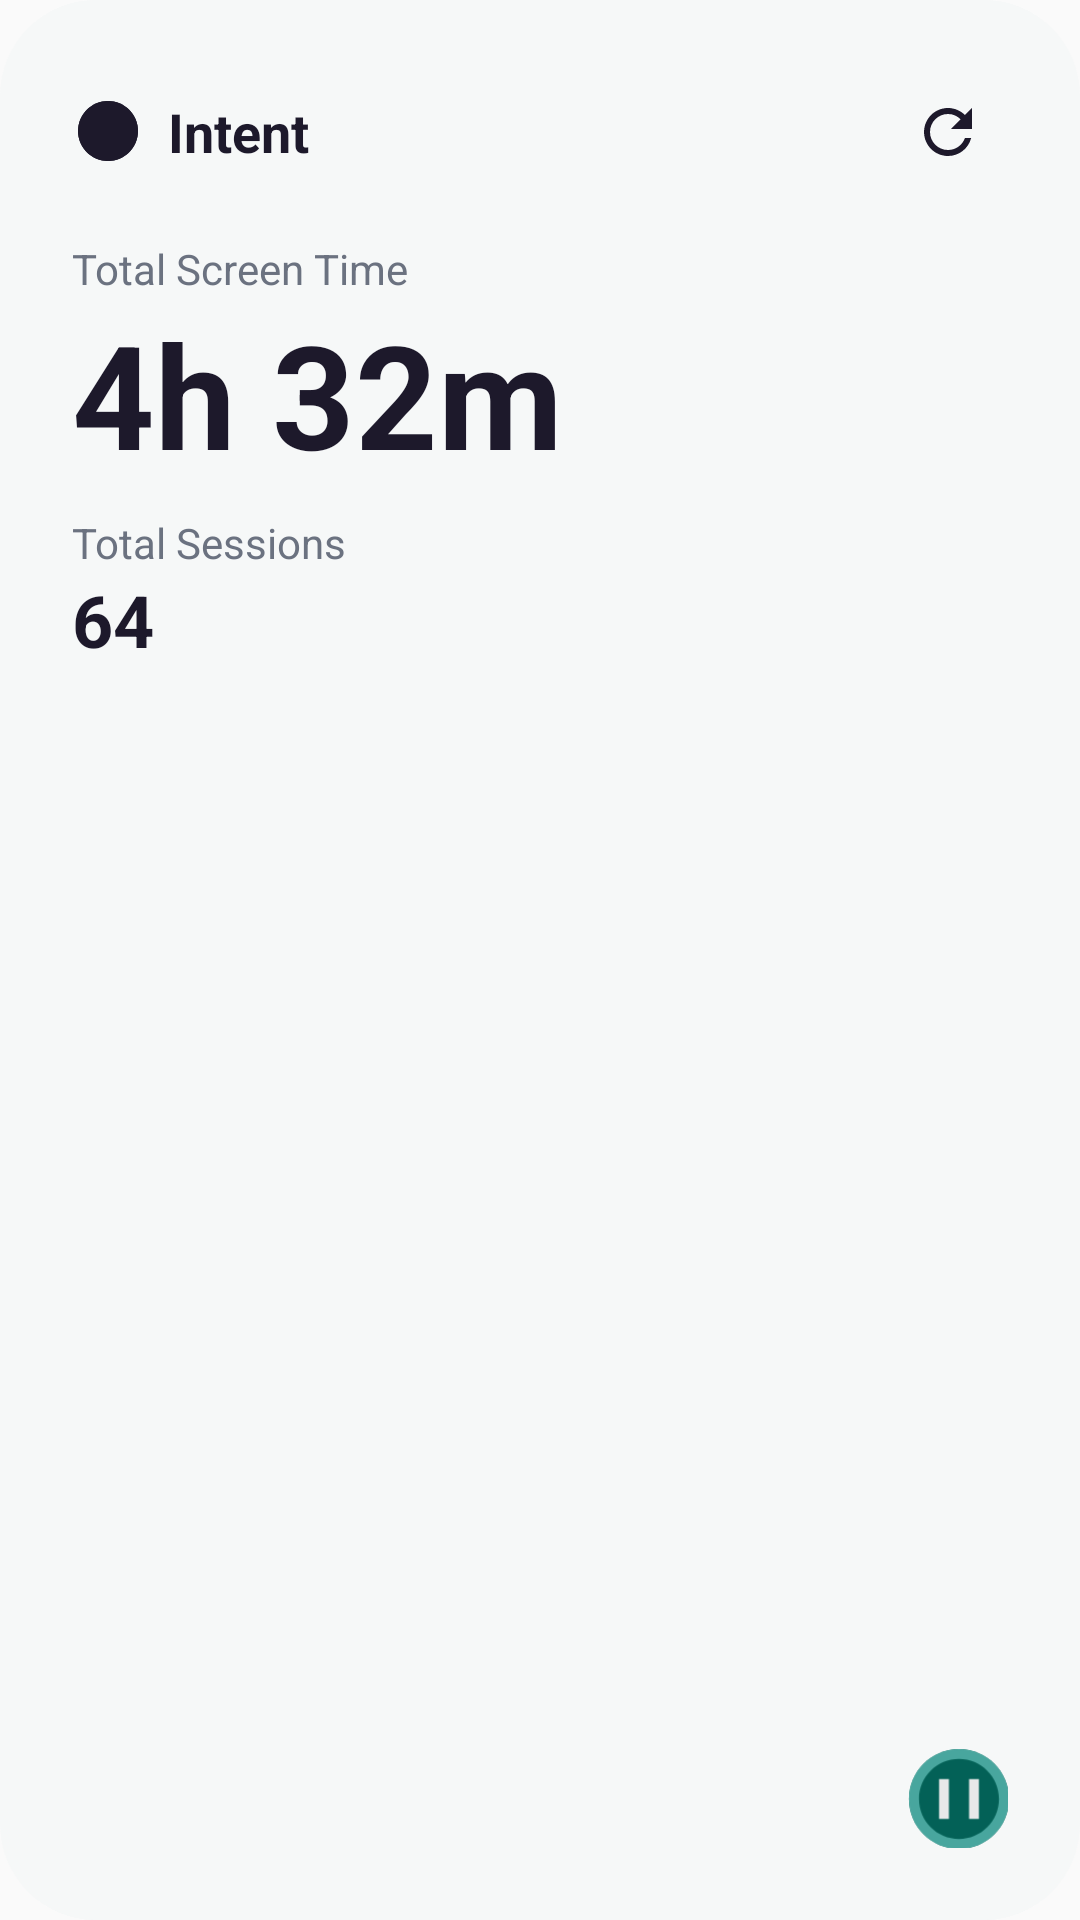

Icons on this 1080w x 1920h Android screen, each with the point to tap as point (x, y):
Refresh: point (948, 132)
